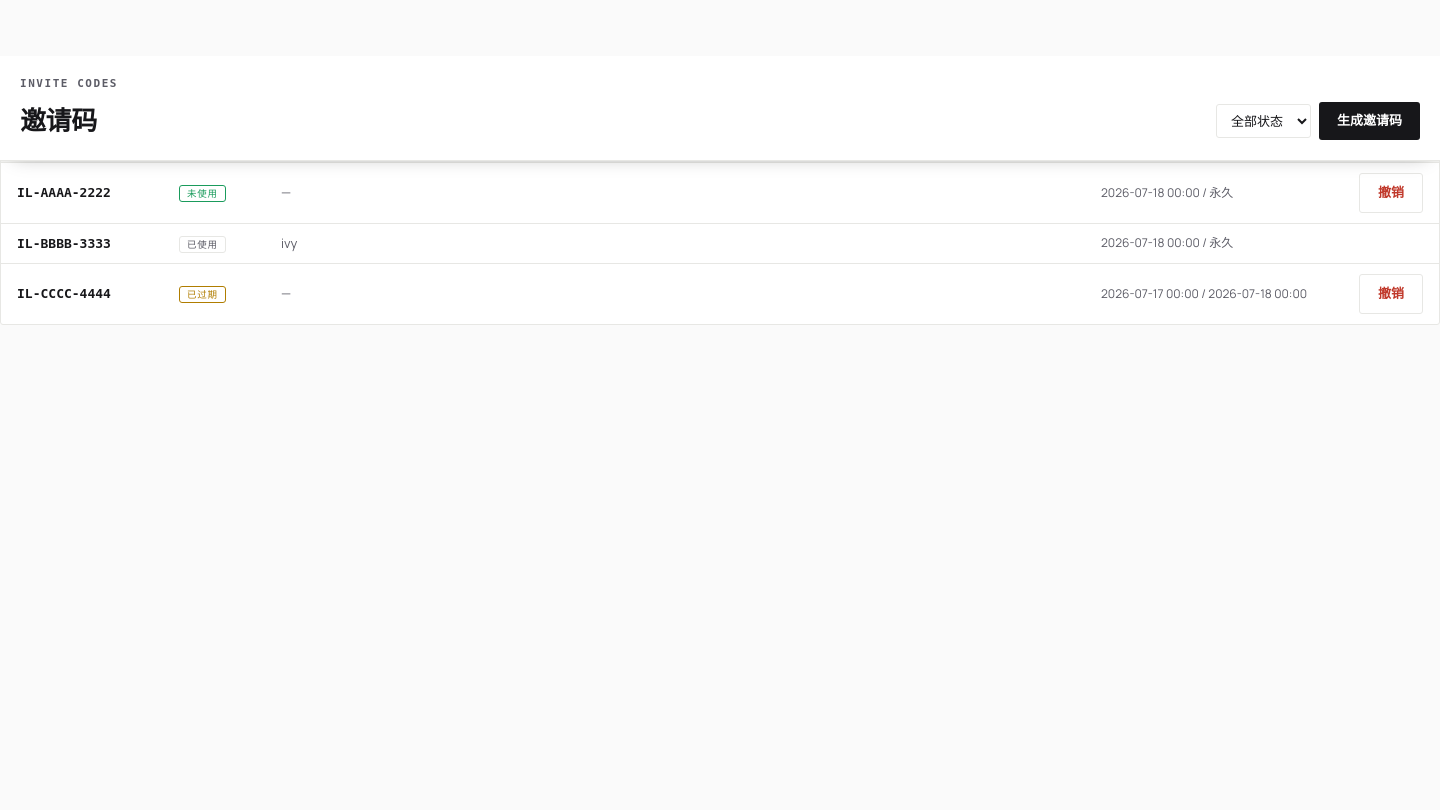
Test: 生成 pending 时关 Modal,resolve 后重开显示生成表单
Expected: the text "IL-AAAA-2222" is shown, [17,185,111,200]
Click the button "生成邀请码": (1370, 121) [1319,102,1420,140]
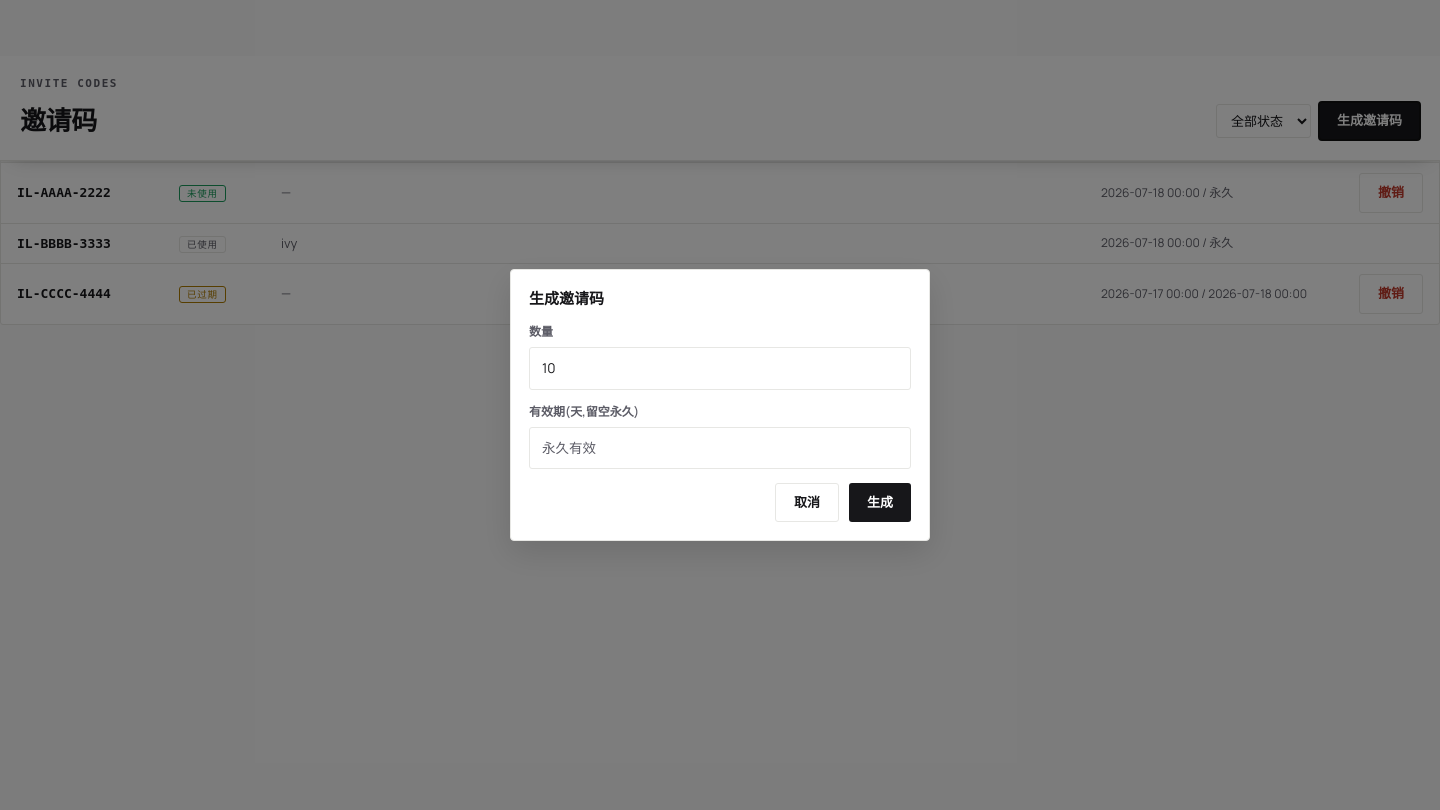
Click the button "生成": (880, 503) [849,483,911,522]
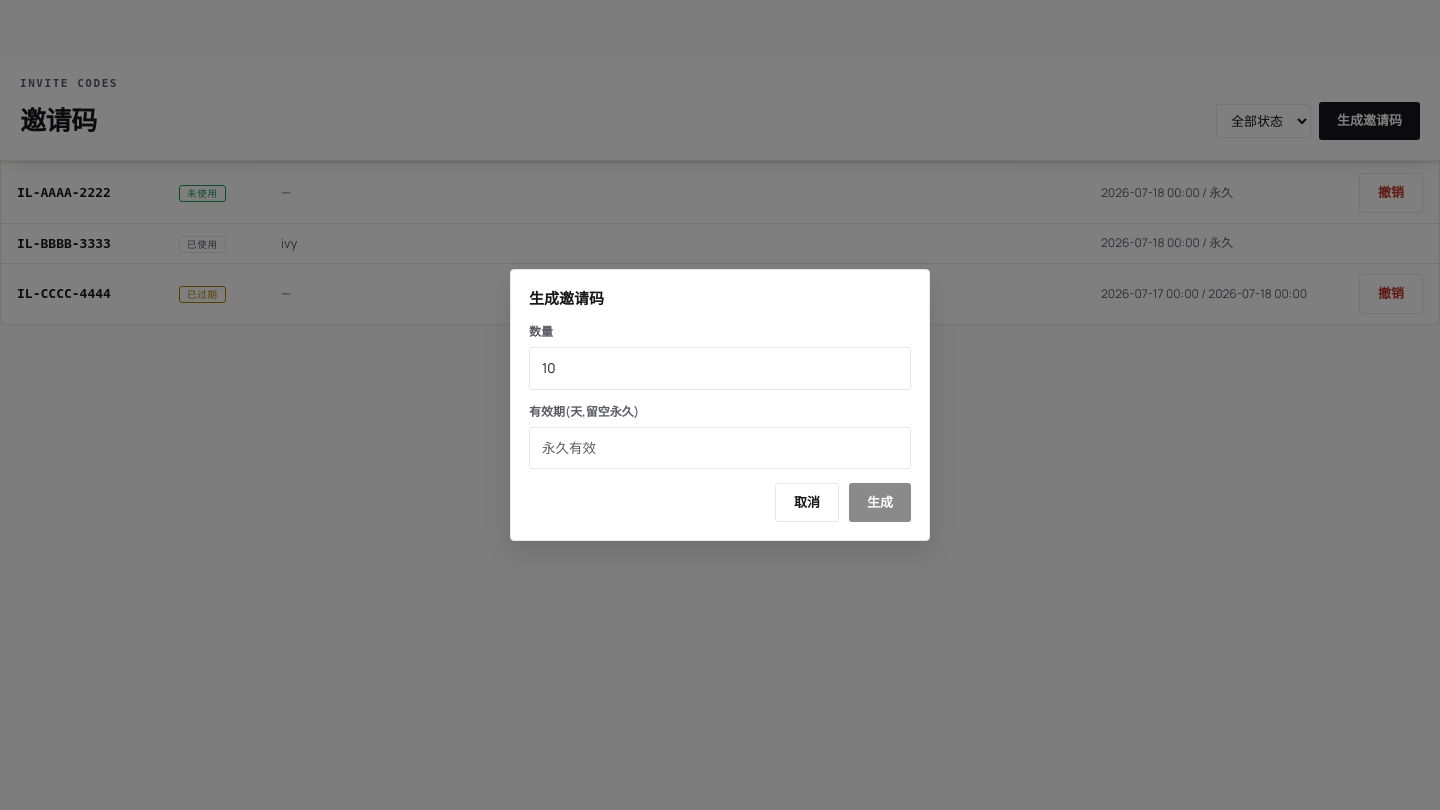
Click the button "取消": (807, 503) [775,483,839,522]
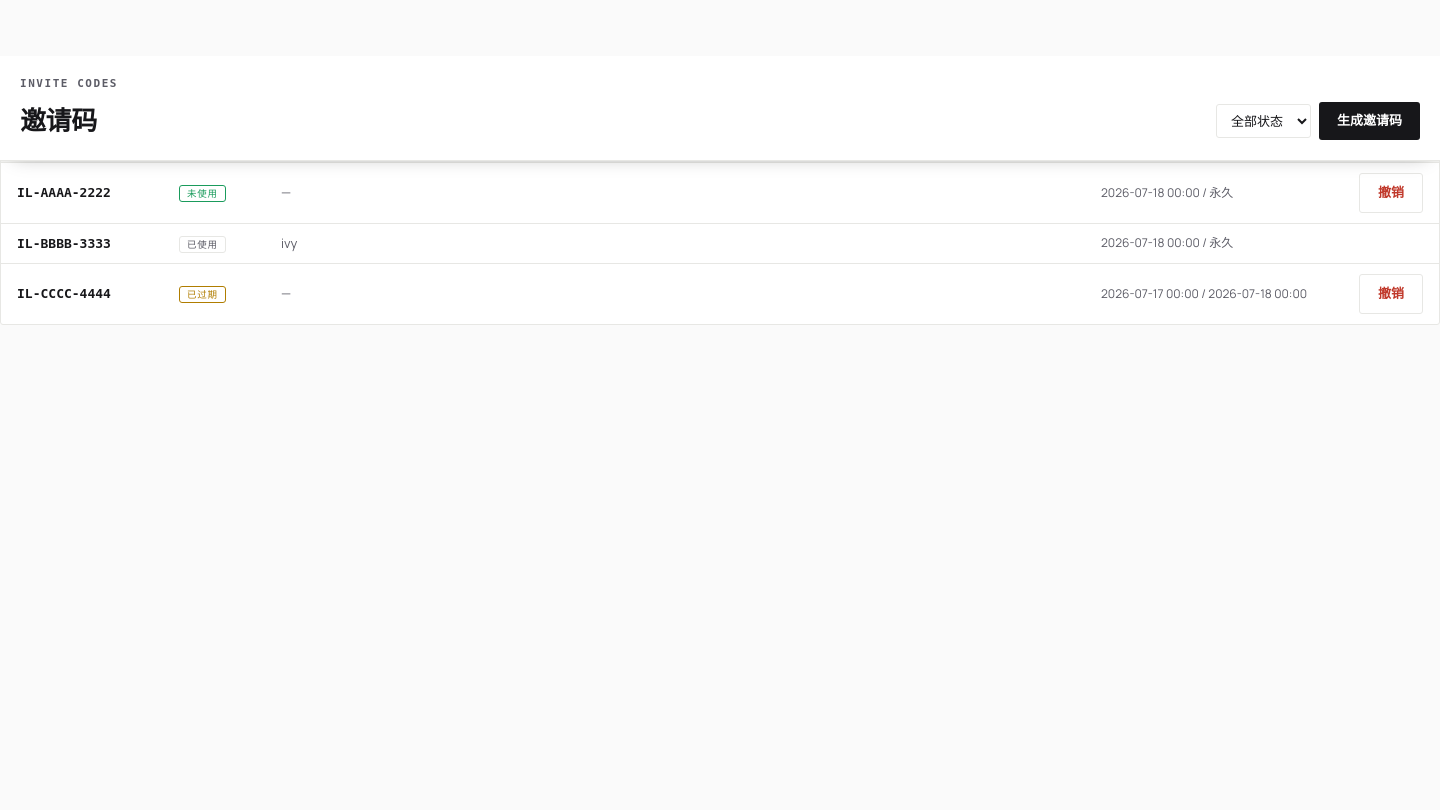
Click the button "生成邀请码": (1370, 121) [1319,102,1420,140]
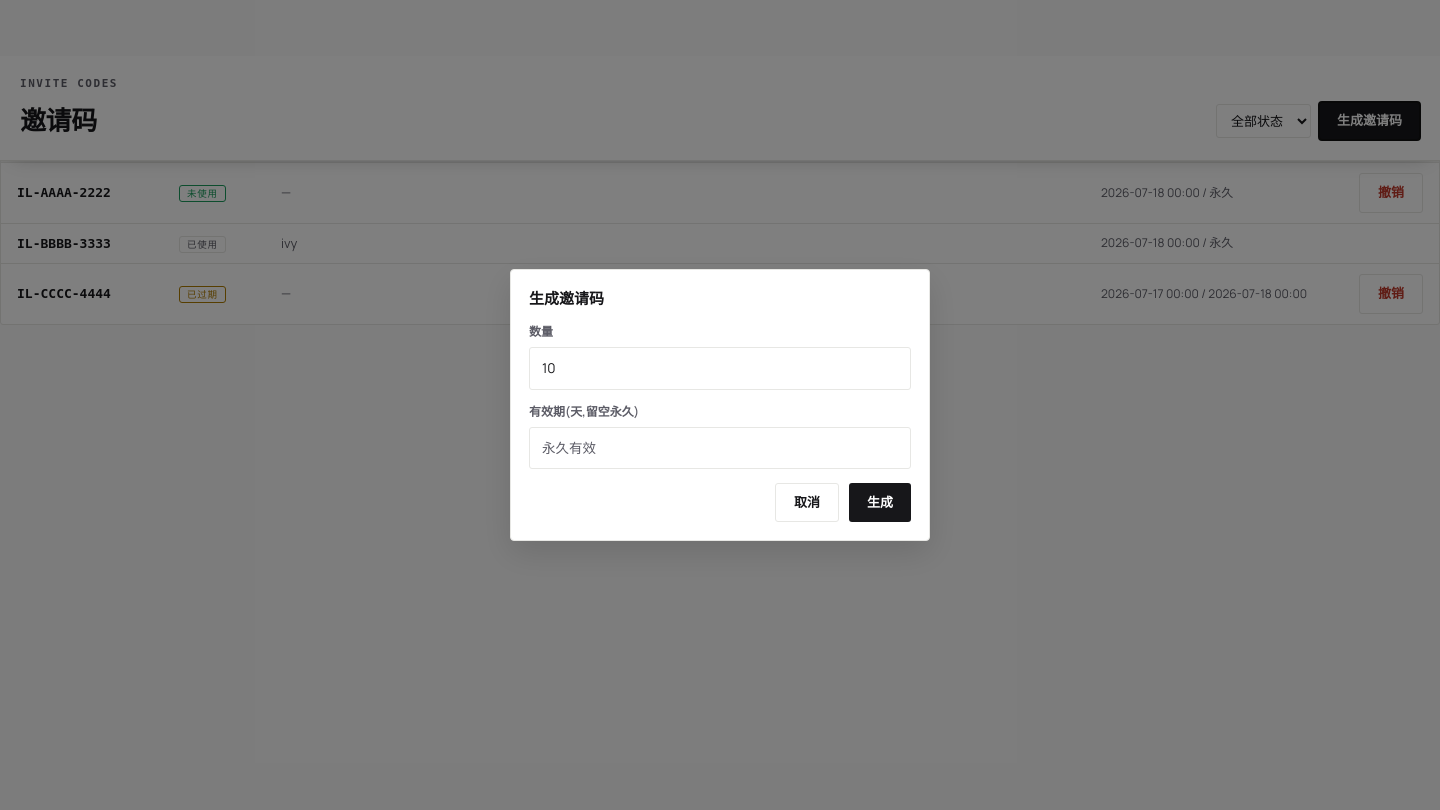
Expected: the number field labelled "数量" is shown, [529,347,911,390]
